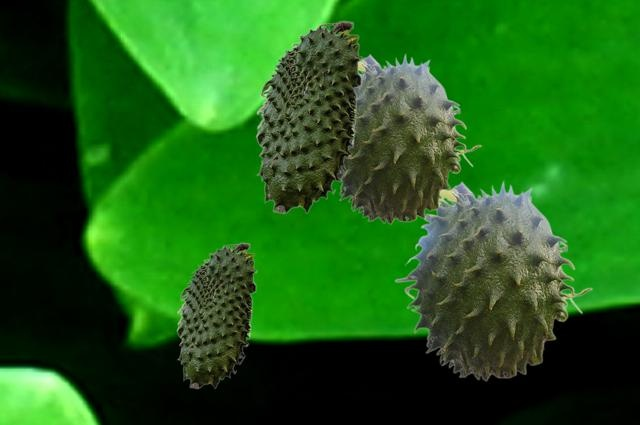guyabano: (394, 179, 592, 381), (338, 52, 481, 224), (255, 20, 362, 213), (176, 242, 256, 388)
